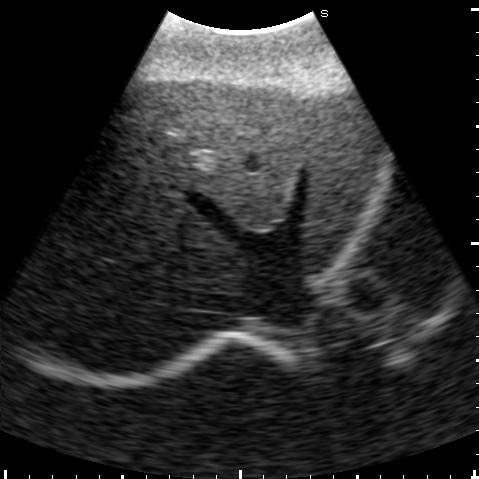S2: (302, 100, 375, 274)
S4: (120, 79, 303, 233)
S7: (21, 249, 203, 374)
S8: (53, 116, 243, 289)
Tumor: (191, 148, 217, 172)
